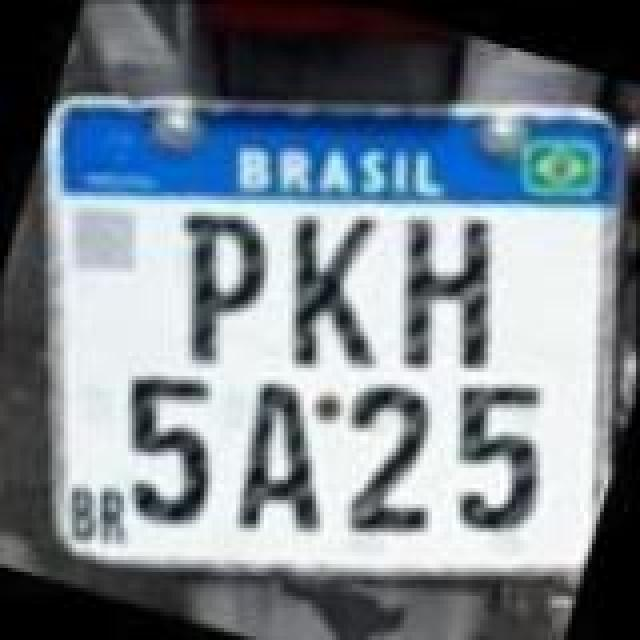2: (314, 366, 466, 546)
5: (88, 348, 244, 536), (422, 358, 574, 538)
A: (220, 370, 360, 546)
H: (360, 186, 528, 386)
K: (256, 188, 424, 384)
P: (136, 194, 280, 378)
